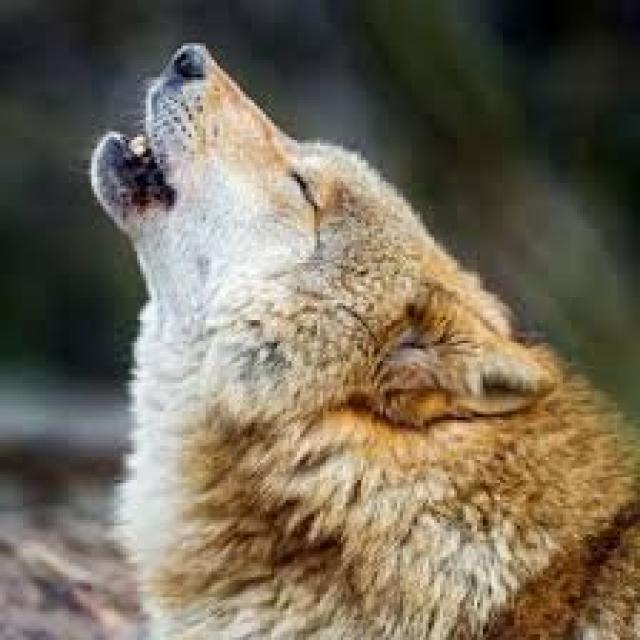Wolf: (86, 37, 637, 637)
